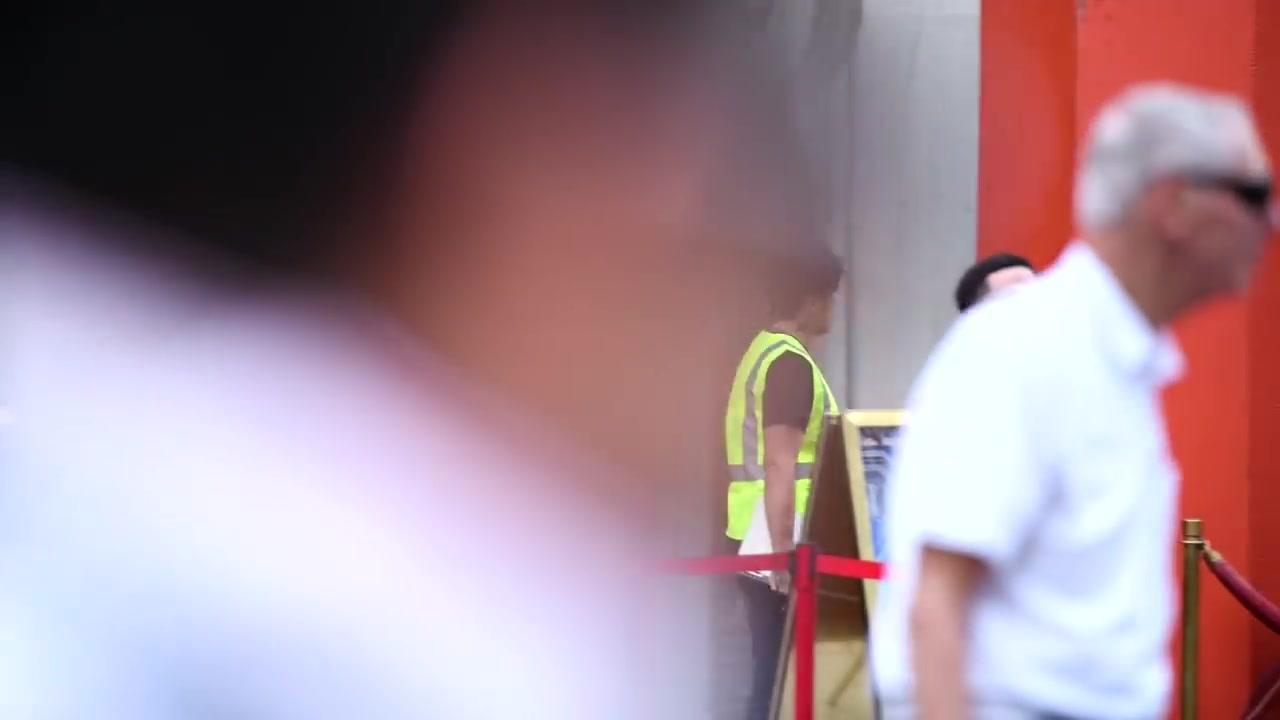vest: (721, 326, 841, 546)
